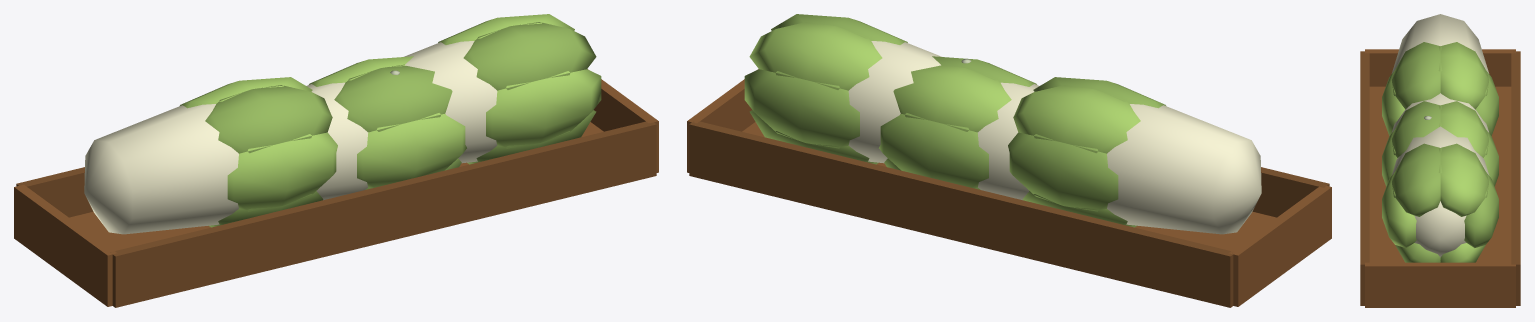
The model's file is Veg_NapaCabbage.fbx.
The picture shows the model from 3 angles, left to right: view 1: azimuth 30°, elevation 25°; view 2: azimuth 150°, elevation 25°; view 3: azimuth 270°, elevation 25°; orthographic projection. The views are drawn at different scales.
Visible parts, largest first — view 1: Veg_NapaCabbage__Stack, Veg_NapaCabbage; view 2: Veg_NapaCabbage__Stack, Veg_NapaCabbage; view 3: Veg_NapaCabbage__Stack, Veg_NapaCabbage.
Boxes of the visible parts, x1,y1,x2,y2 form: Veg_NapaCabbage__Stack: [14, 14, 658, 307]; Veg_NapaCabbage: [306, 56, 466, 200]; Veg_NapaCabbage__Stack: [687, 14, 1331, 307]; Veg_NapaCabbage: [879, 56, 1039, 200]; Veg_NapaCabbage__Stack: [1360, 14, 1520, 307]; Veg_NapaCabbage: [1382, 93, 1498, 186].
Bounding box in the file's own units: 0.448 × 0.1066 × 0.1398.
